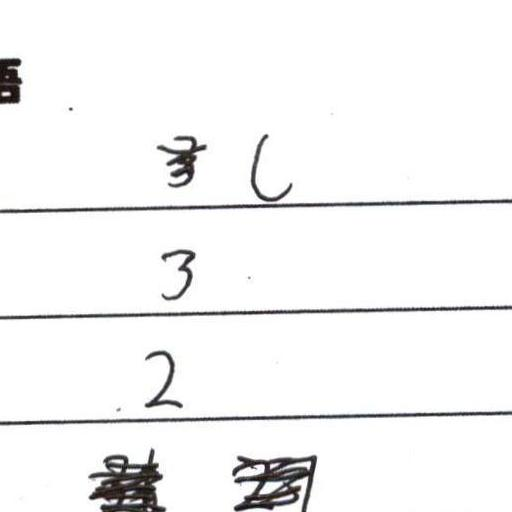ans: (244, 129, 295, 205), (141, 349, 185, 410), (157, 245, 197, 302)
